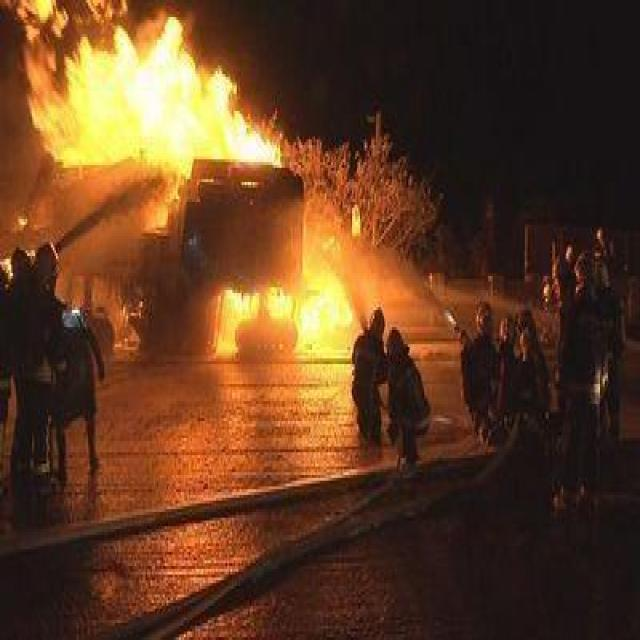fire: (11, 0, 354, 350)
